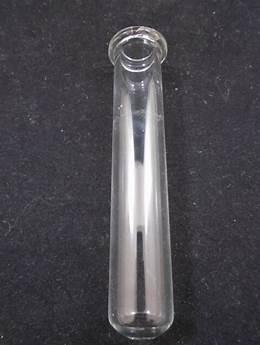Test tube: (98, 9, 183, 334)
